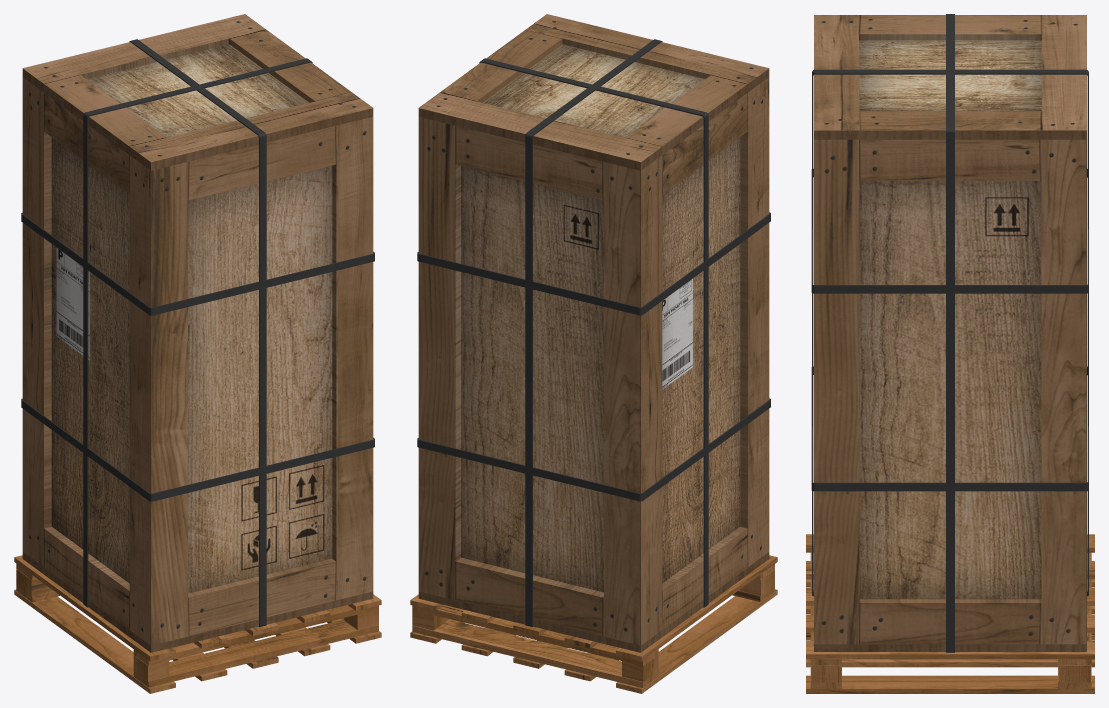
Rendered from wooden-box.glb.
3 renders of one model, left to right at view 1: azimuth 30°, elevation 25°; view 2: azimuth 150°, elevation 25°; view 3: azimuth 270°, elevation 25°, orthographic. The views are drawn at different scales.
Visible parts, largest first — view 1: Cube.005_1, Cube.007_2, Cube.003_0; view 2: Cube.005_1, Cube.007_2, Cube.003_0; view 3: Cube.005_1, Cube.007_2, Cube.003_0.
Boxes of the visible parts, left/top/right/bottom form: Cube.005_1: left=22, top=14, right=373, bottom=652; Cube.007_2: left=21, top=39, right=374, bottom=626; Cube.003_0: left=14, top=555, right=381, bottom=693; Cube.005_1: left=418, top=14, right=769, bottom=652; Cube.007_2: left=417, top=39, right=770, bottom=626; Cube.003_0: left=410, top=555, right=777, bottom=693; Cube.005_1: left=814, top=15, right=1086, bottom=651; Cube.007_2: left=811, top=14, right=1088, bottom=652; Cube.003_0: left=806, top=534, right=1094, bottom=693.
Size of the model in its own units: 1.09 by 2.38 by 1.11.
3 materials, 2 textured.
